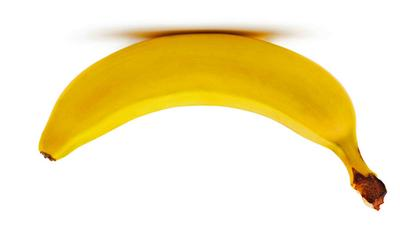banana: (0, 0, 400, 225)
